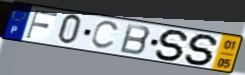0: (56, 13, 84, 48)
B: (118, 22, 153, 57)
C: (89, 20, 121, 51)
F: (24, 9, 60, 40)
S: (183, 33, 222, 67), (154, 28, 192, 62)
